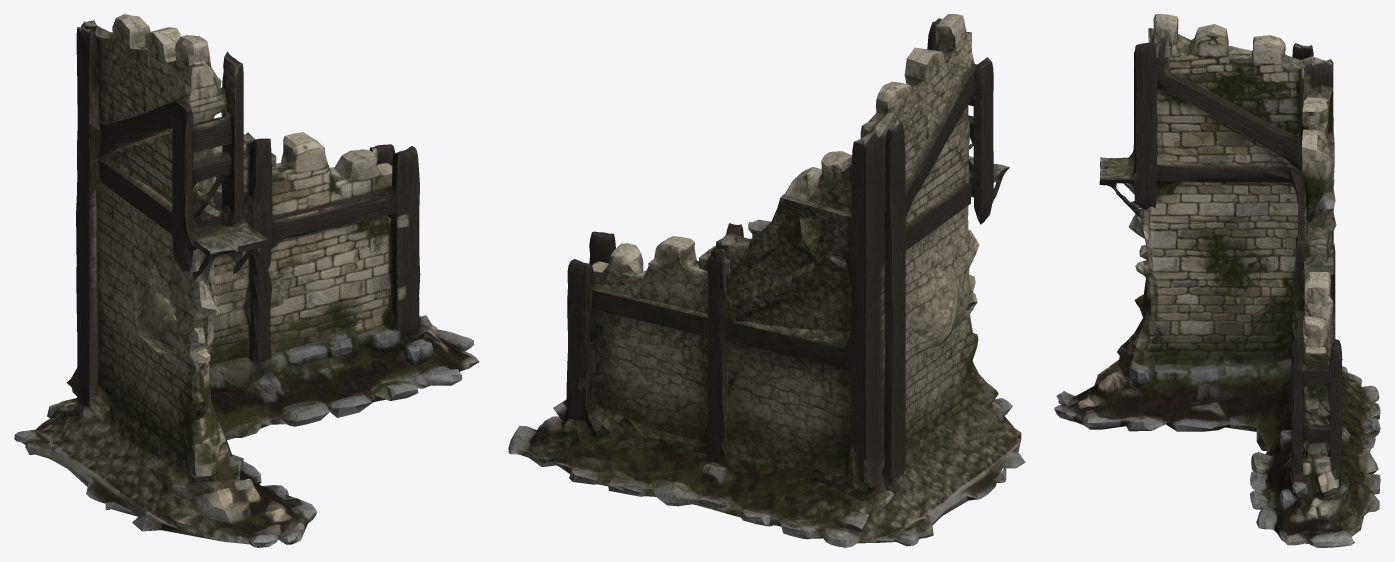
Rendered from ok-ruin-wall-corner-meshy.glb.
The picture shows the model from 3 angles, left to right: view 1: azimuth 30°, elevation 25°; view 2: azimuth 150°, elevation 25°; view 3: azimuth 270°, elevation 25°; orthographic projection. The views are drawn at different scales.
Bounding box in the file's own units: 1.87 × 1.9 × 1.45.
Materials: 1 (1 with a texture image).
